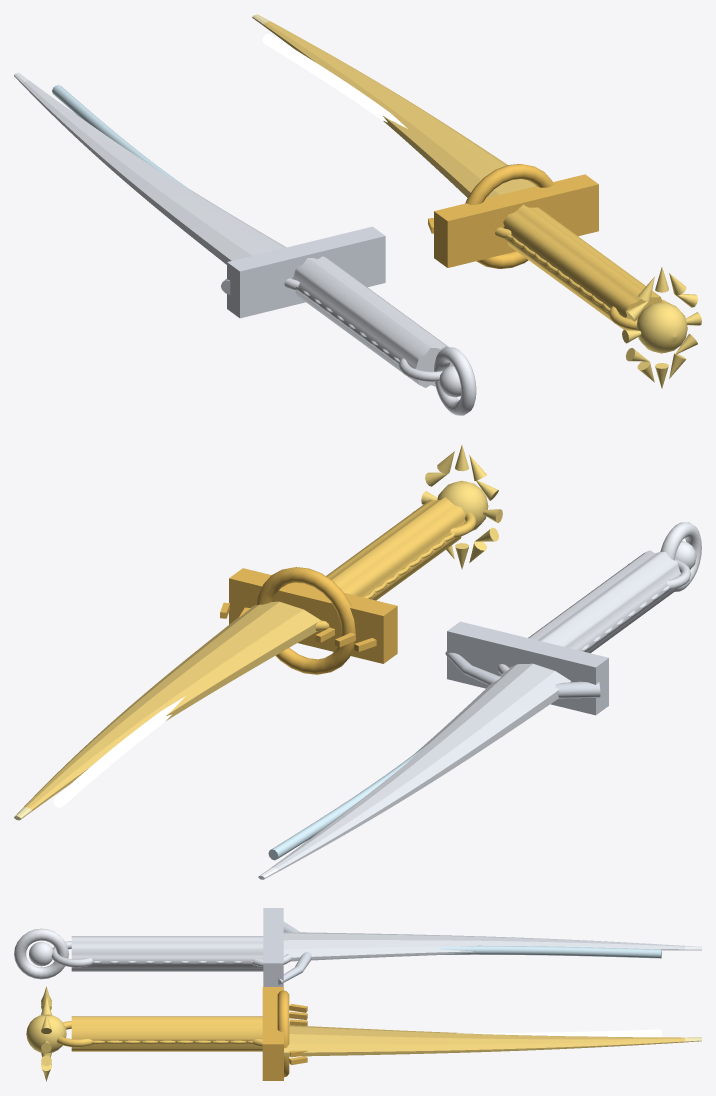
Rendered from art_eclipse_daggers.fbx.
The picture shows the model from 3 angles, top to bottom: view 1: azimuth 30°, elevation 25°; view 2: azimuth 150°, elevation 25°; view 3: azimuth 270°, elevation 25°; orthographic projection. The views are drawn at different scales.
Parts seen in each view (by area): view 1: Crossguard, BladeL, HandleL, Handle, Blade, CrossguardL, Pommel, PommelL, RuneInlay, RuneInlayL; view 2: Blade, BladeL, Crossguard, CrossguardL, HandleL, Handle, Pommel, RuneInlay, PommelL, RuneInlayL; view 3: Blade, HandleL, Handle, BladeL, Crossguard, CrossguardL, RuneInlayL, PommelL, Pommel, RuneInlay.
Boxes of the visible parts, <box> form: Crossguard: <box>428,164,598,268</box>; BladeL: <box>22,80,286,264</box>; HandleL: <box>284,256,453,387</box>; Handle: <box>495,204,670,330</box>; Blade: <box>263,21,536,198</box>; CrossguardL: <box>221,226,385,318</box>; Pommel: <box>622,267,701,388</box>; PommelL: <box>434,347,476,415</box>; RuneInlay: <box>262,33,407,128</box>; RuneInlayL: <box>52,85,192,191</box>; Blade: <box>23,601,320,811</box>; BladeL: <box>271,663,571,871</box>; Crossguard: <box>220,567,397,674</box>; CrossguardL: <box>445,621,608,715</box>; HandleL: <box>497,550,691,674</box>; Handle: <box>315,497,476,630</box>; Pommel: <box>421,445,502,569</box>; RuneInlay: <box>53,696,185,807</box>; PommelL: <box>660,522,701,591</box>; RuneInlayL: <box>268,745,426,860</box>; Blade: <box>284,1025,684,1056</box>; HandleL: <box>51,936,291,971</box>; Handle: <box>57,1016,262,1051</box>; BladeL: <box>283,932,684,961</box>; Crossguard: <box>262,987,307,1080</box>; CrossguardL: <box>263,908,311,986</box>; RuneInlayL: <box>438,945,661,958</box>; PommelL: <box>14,928,68,979</box>; Pommel: <box>26,986,66,1081</box>; RuneInlay: <box>456,1029,661,1037</box>.
Bounding box in the file's own units: 130 × 42 × 273.
